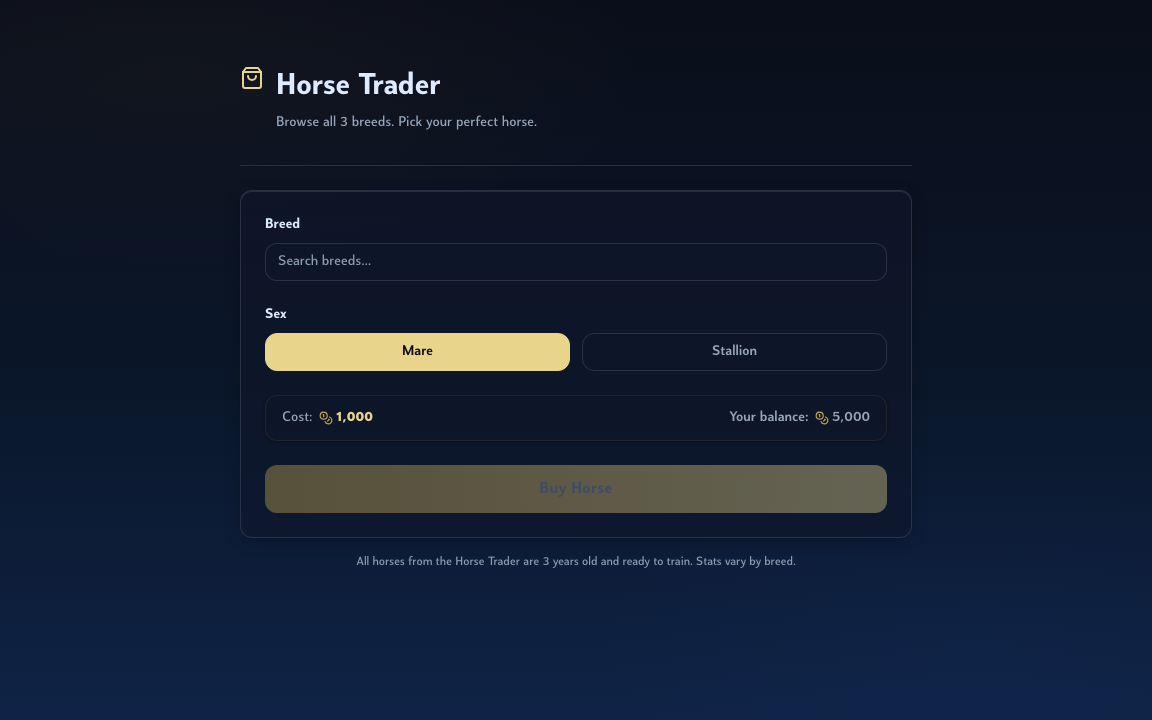
Test: HorseTraderPage breed combobox (Equoria-4yocc) › wraps the active option and closes on Escape without choosing
Click the dropdown labelled "Breed" at (576, 262), box top-left (265, 243), bottom-right (887, 281)
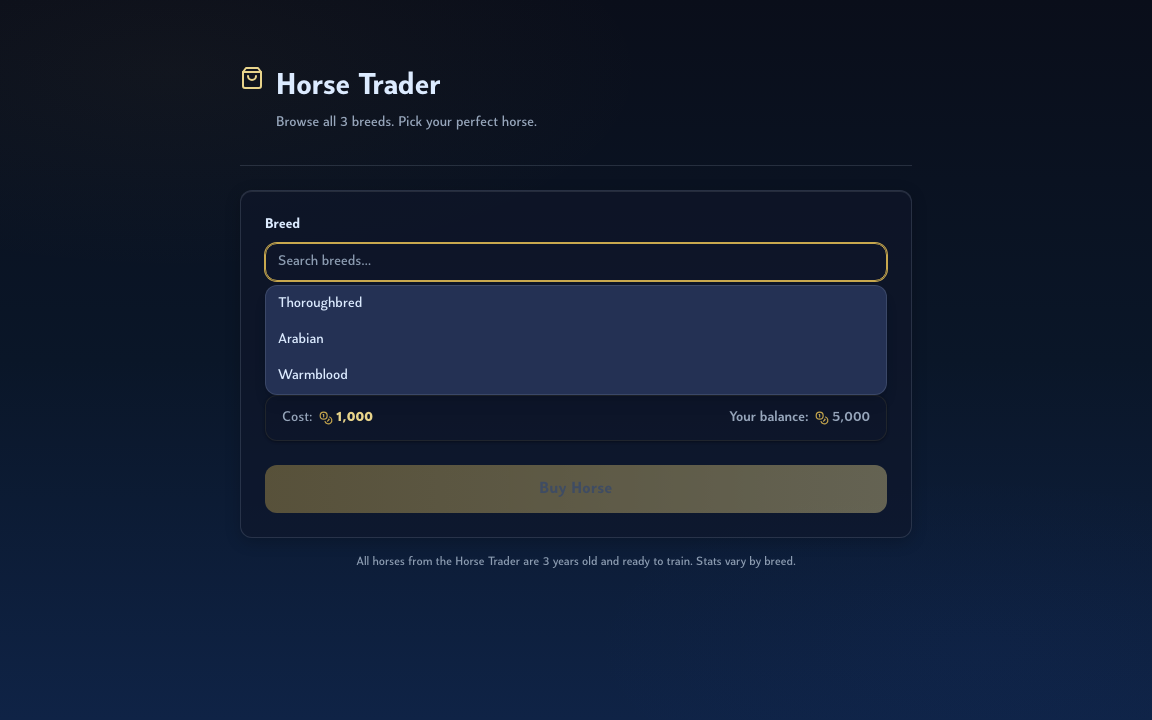
Press Arrowup
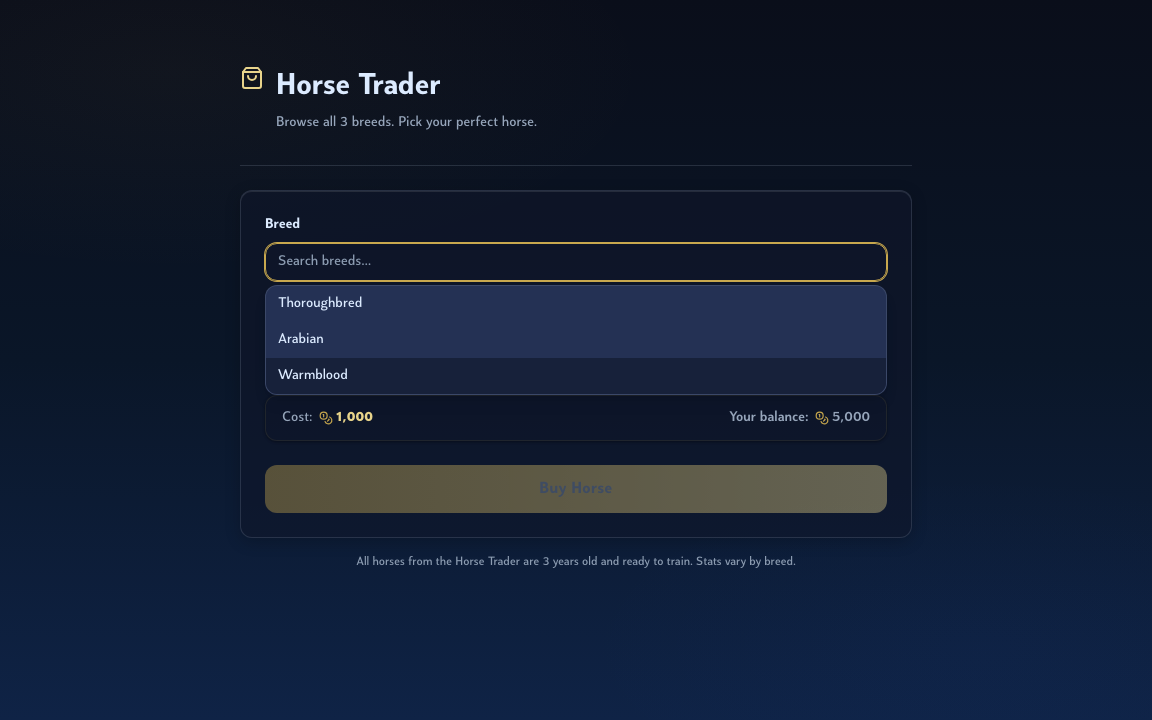
Press Escape
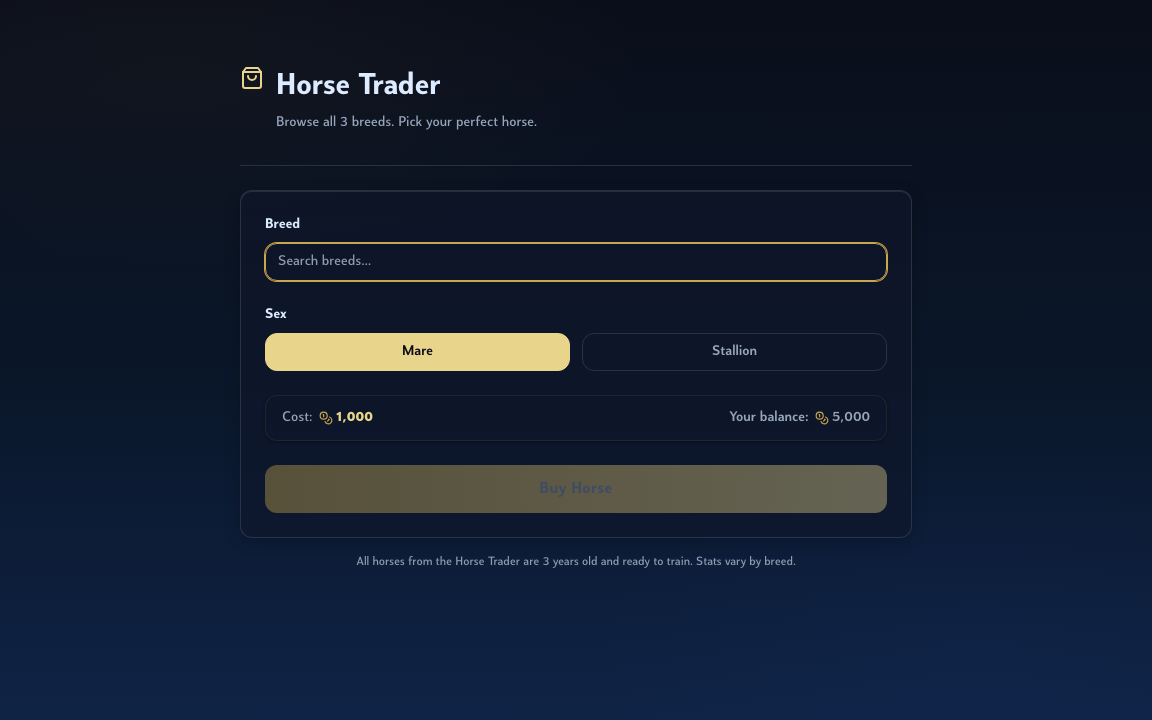
Expected: the dropdown labelled "Breed" is empty, top-left (265, 243), bottom-right (887, 281)
Expected: the list is gone
